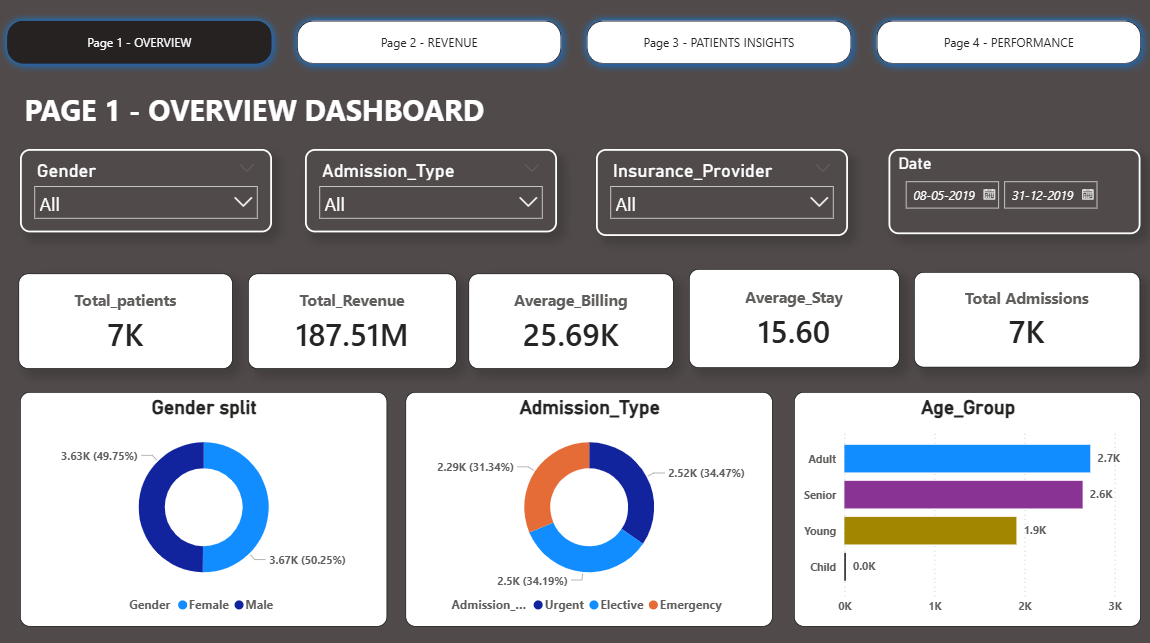

This screenshot's page, from the dashboard's own definition file:
{"tool":"powerbi","page":{"name":"Page 1 - OVERVIEW","canvas":[1280,720],"ordinal":0},"visuals":[{"type":"slicer","fields":{"Values":["healthcare_data.Gender"]},"box":[22.7,170.1,279.7,92.6],"z":0},{"type":"slicer","fields":{"Values":["healthcare_data.Admission_Type"]},"box":[340.2,170.1,279.7,92.6],"z":1000},{"type":"slicer","fields":{"Values":["healthcare_data.Insurance_Provider"]},"box":[663.3,170.1,279.7,96.4],"z":2000},{"type":"slicer","title":"Date","fields":{"Values":["Calendar.Date"]},"box":[988.4,170.1,279.7,94.5],"z":3000},{"type":"cardVisual","fields":{"Data":["healthcare_data.Total_patients"]},"box":[22,308,238,106],"z":4000},{"type":"cardVisual","fields":{"Data":["healthcare_data.Total_Revenue"]},"box":[276,308,232,106],"z":5000},{"type":"cardVisual","fields":{"Data":["healthcare_data.Average_Billing"]},"box":[522,308,228,106],"z":6000},{"type":"cardVisual","fields":{"Data":["healthcare_data.AvgStay"]},"box":[766,304,234,110],"z":7000},{"type":"cardVisual","fields":{"Data":["healthcare_data.Total Admissions"]},"box":[1016.7,306.1,251.3,105.8],"z":8000},{"type":"donutChart","title":" Gender split","fields":{"Category":["healthcare_data.Gender"],"Y":["CountNonNull(healthcare_data.Name)"]},"box":[22.7,440.3,408.2,260.8],"z":9000},{"type":"donutChart","title":" Admission_Type","fields":{"Y":["CountNonNull(healthcare_data.Name)"],"Category":["healthcare_data.Admission_Type"]},"box":[451.7,440.3,408.2,260.8],"z":10000},{"type":"clusteredBarChart","title":" Age_Group","fields":{"Category":["healthcare_data.Age_Group"],"Y":["CountNonNull(healthcare_data.Name)"]},"box":[882.5,440.3,385.5,260.8],"z":11000},{"type":"textbox","box":[22.7,98.3,1232.1,56.7],"z":12000},{"type":"pageNavigator","box":[0,18.9,1279.4,66.1],"z":13000}]}

Visuals, with their boxes in screenshot pixels (x1, y1, x2, y2), scaled from the page's 1280x720 canvas onto the 1150x643 screenshot:
slicer - healthcare_data.Gender: [left=20, top=152, right=272, bottom=235]
slicer - healthcare_data.Admission_Type: [left=306, top=152, right=557, bottom=235]
slicer - healthcare_data.Insurance_Provider: [left=596, top=152, right=847, bottom=238]
"Date" slicer: [left=888, top=152, right=1139, bottom=236]
cardVisual - healthcare_data.Total_patients: [left=20, top=275, right=234, bottom=370]
cardVisual - healthcare_data.Total_Revenue: [left=248, top=275, right=456, bottom=370]
cardVisual - healthcare_data.Average_Billing: [left=469, top=275, right=674, bottom=370]
cardVisual - healthcare_data.AvgStay: [left=688, top=271, right=898, bottom=370]
cardVisual - healthcare_data.Total Admissions: [left=913, top=273, right=1139, bottom=368]
" Gender split" donutChart: [left=20, top=393, right=387, bottom=626]
" Admission_Type" donutChart: [left=406, top=393, right=773, bottom=626]
" Age_Group" clusteredBarChart: [left=793, top=393, right=1139, bottom=626]
textbox: [left=20, top=88, right=1127, bottom=138]
pageNavigator: [left=0, top=17, right=1149, bottom=76]
